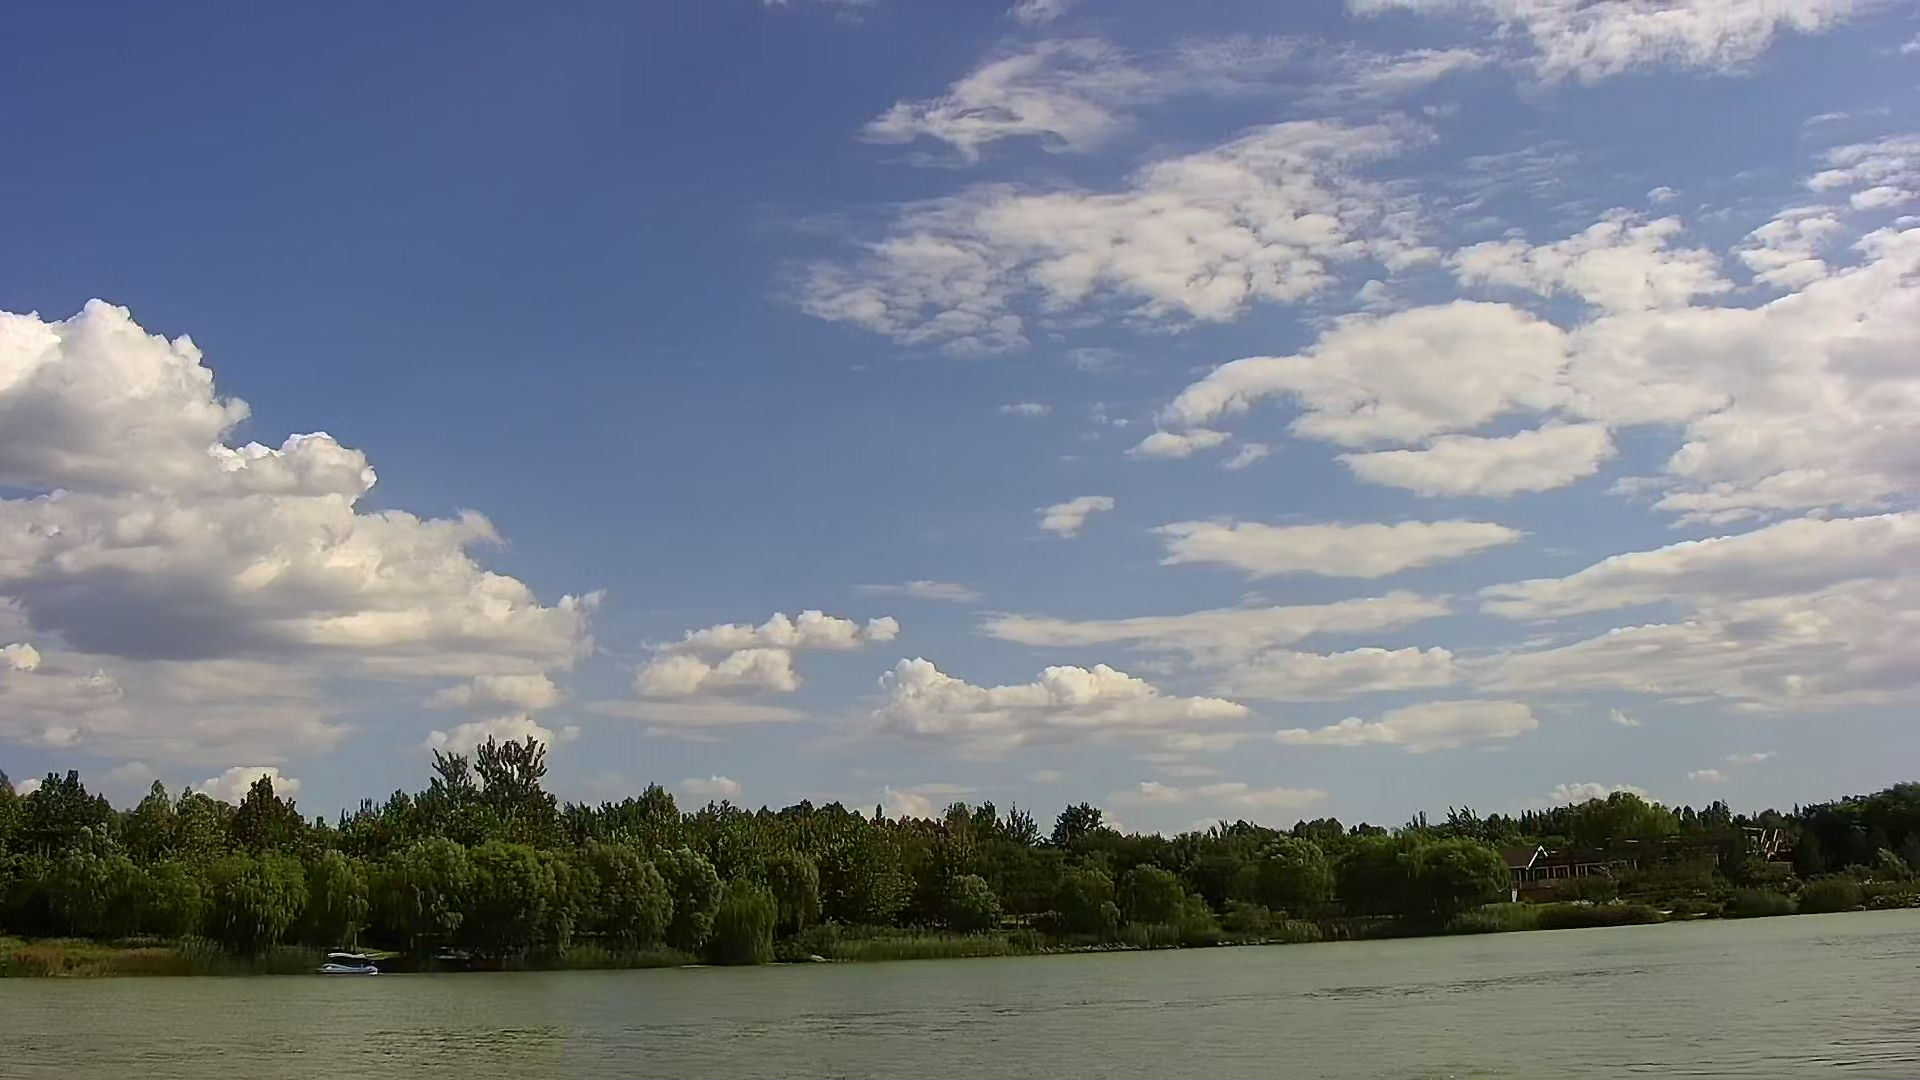boat: (314, 948, 382, 980)
